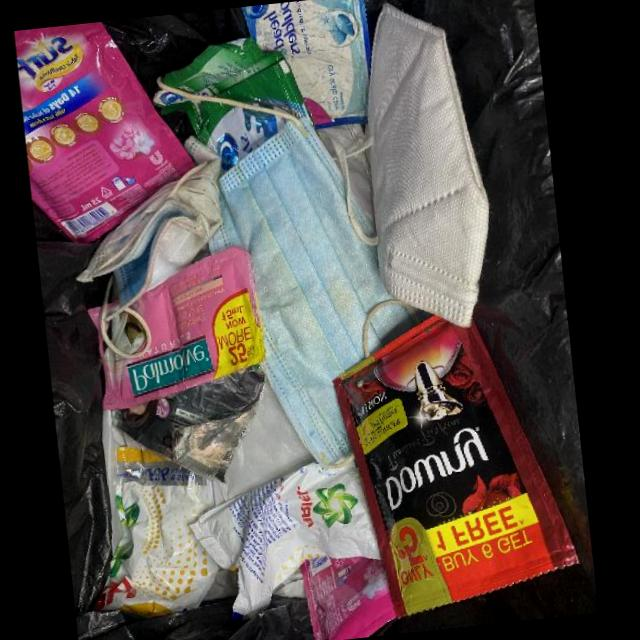goi_nhua_nho: (334, 317, 580, 620), (14, 21, 194, 243), (190, 455, 381, 616), (88, 247, 265, 410), (93, 426, 228, 617), (152, 37, 308, 171), (112, 366, 265, 482), (240, 0, 371, 130), (300, 555, 396, 640)
khau_trang: (209, 107, 413, 466), (332, 3, 489, 329), (76, 135, 222, 359)
